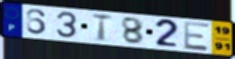2: (153, 18, 183, 50)
3: (55, 11, 78, 39)
6: (26, 8, 48, 36)
8: (120, 17, 145, 45)
E: (182, 21, 212, 53)
T: (91, 13, 114, 43)
